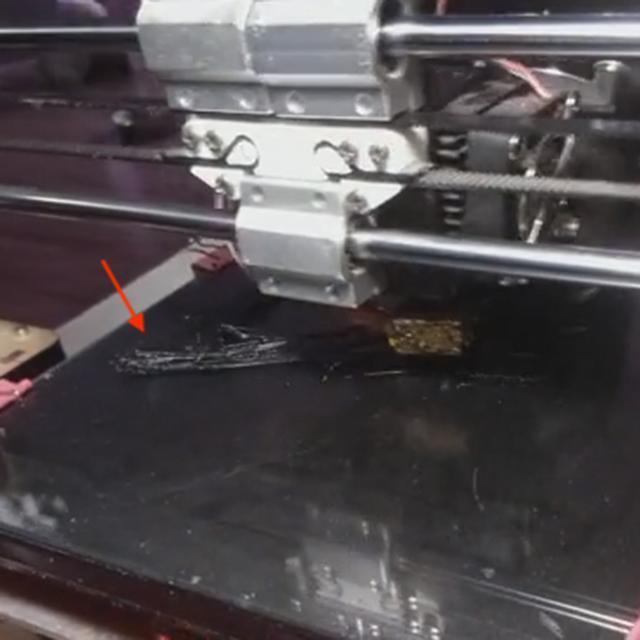spaghetti: (108, 344, 147, 380), (210, 323, 258, 347)
